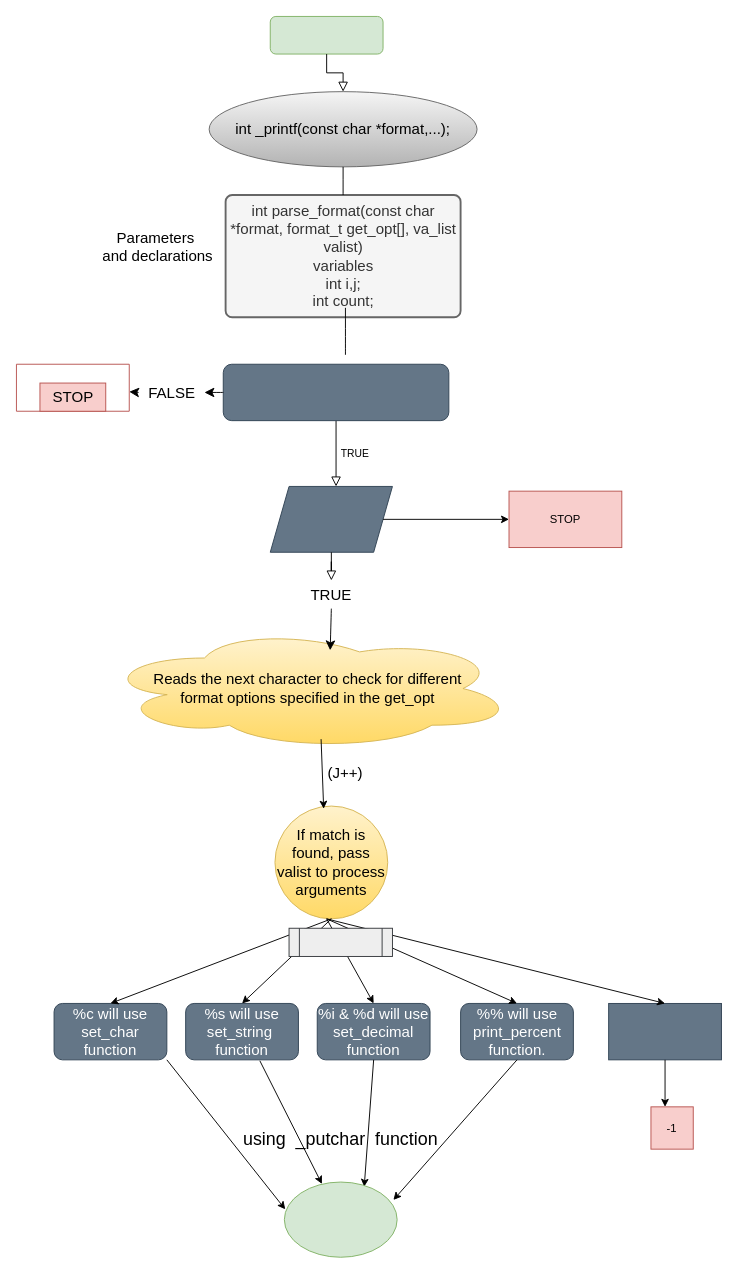
Some shapes in this 738 by 1274 pixel diagram are drawn without their labels. The centre of each missing label's shape, as x and y in pixels:
"for (i = 0; format[i] != '\0'; i++)" goes at (x=335, y=392).
"get_opt [ ]" goes at (x=340, y=941).
"if (format[i] == '%')" goes at (x=330, y=519).
"NULL" goes at (x=664, y=1031).
"START" goes at (x=326, y=35).
"The output and print number of characters" goes at (x=340, y=1219).
